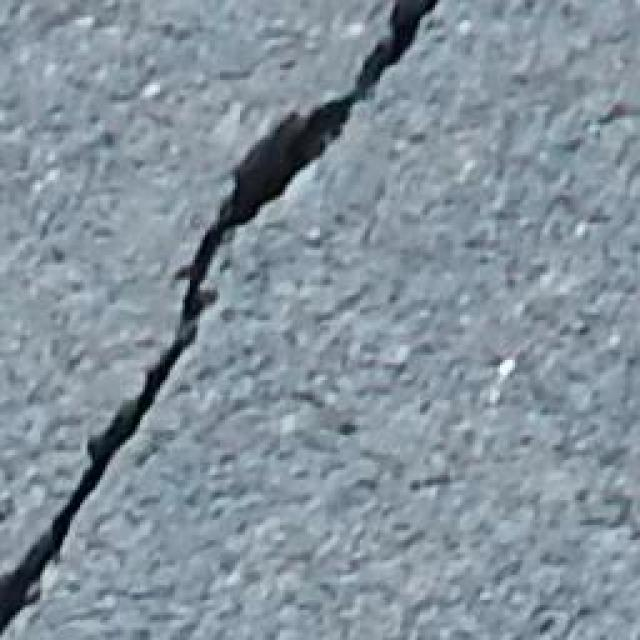concrete-crack: (0, 0, 462, 635)
